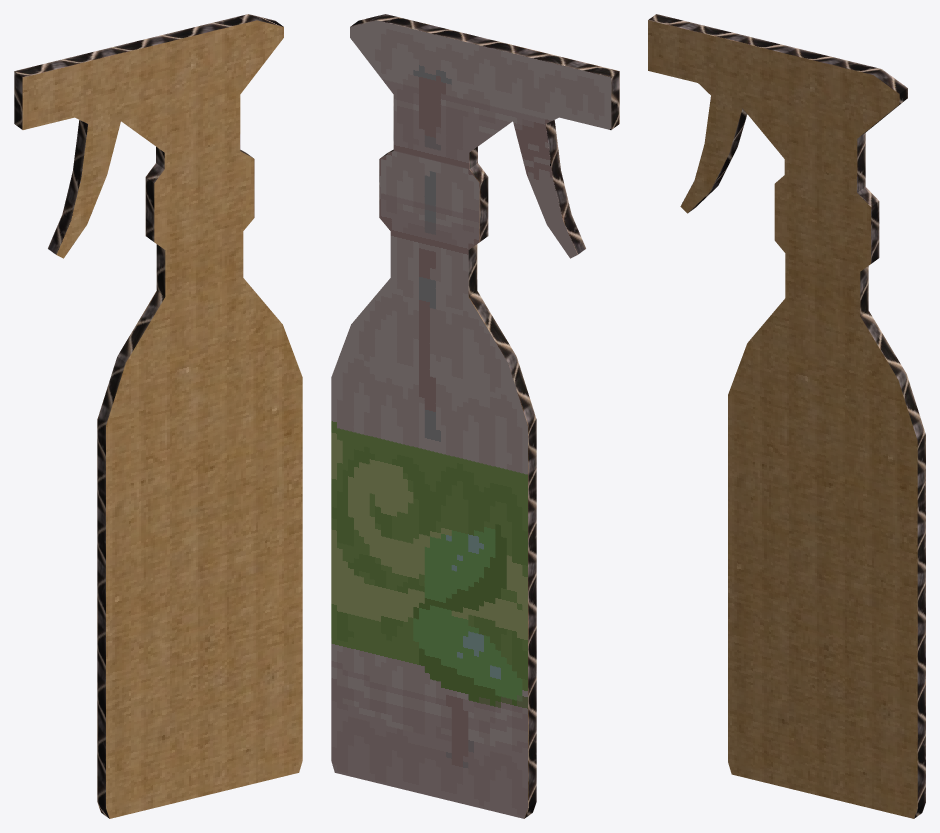
The model's file is AROMATIZANTE ATOMIZADOR.glb.
3 renders of one model, left to right at view 1: azimuth 30°, elevation 25°; view 2: azimuth 150°, elevation 25°; view 3: azimuth 330°, elevation 25°, orthographic. The views are drawn at different scales.
Parts seen in each view (by area): view 1: AROMATIZANTE ATO; view 2: AROMATIZANTE ATO; view 3: AROMATIZANTE ATO.
Boxes of the visible parts, bbox=[...] form: AROMATIZANTE ATO: bbox=[14, 14, 302, 818]; AROMATIZANTE ATO: bbox=[331, 14, 619, 818]; AROMATIZANTE ATO: bbox=[648, 14, 925, 818].
Bounding box in the file's own units: 1.68 × 4.38 × 0.09.
1 material, 1 textured.
